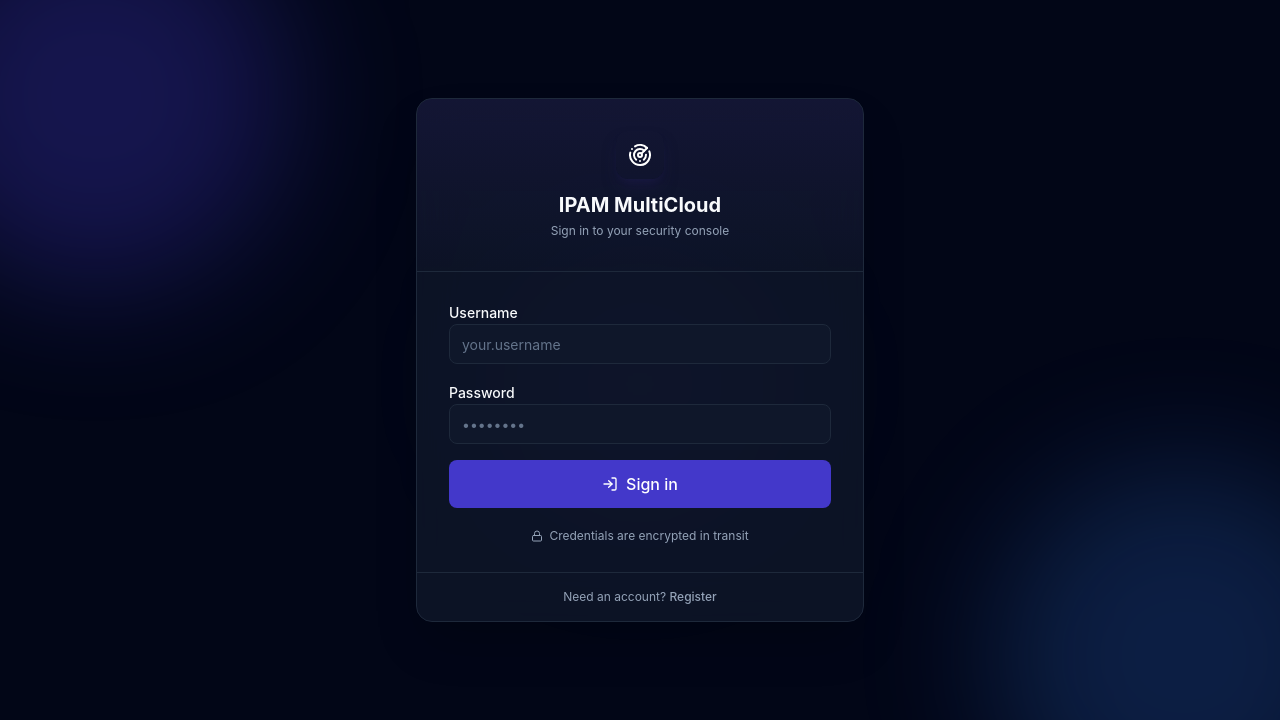
Test: Login validation › shows errors for both fields when submitting an empty form
Click the button "Sign in" at (640, 484), box [449, 460, 831, 508]
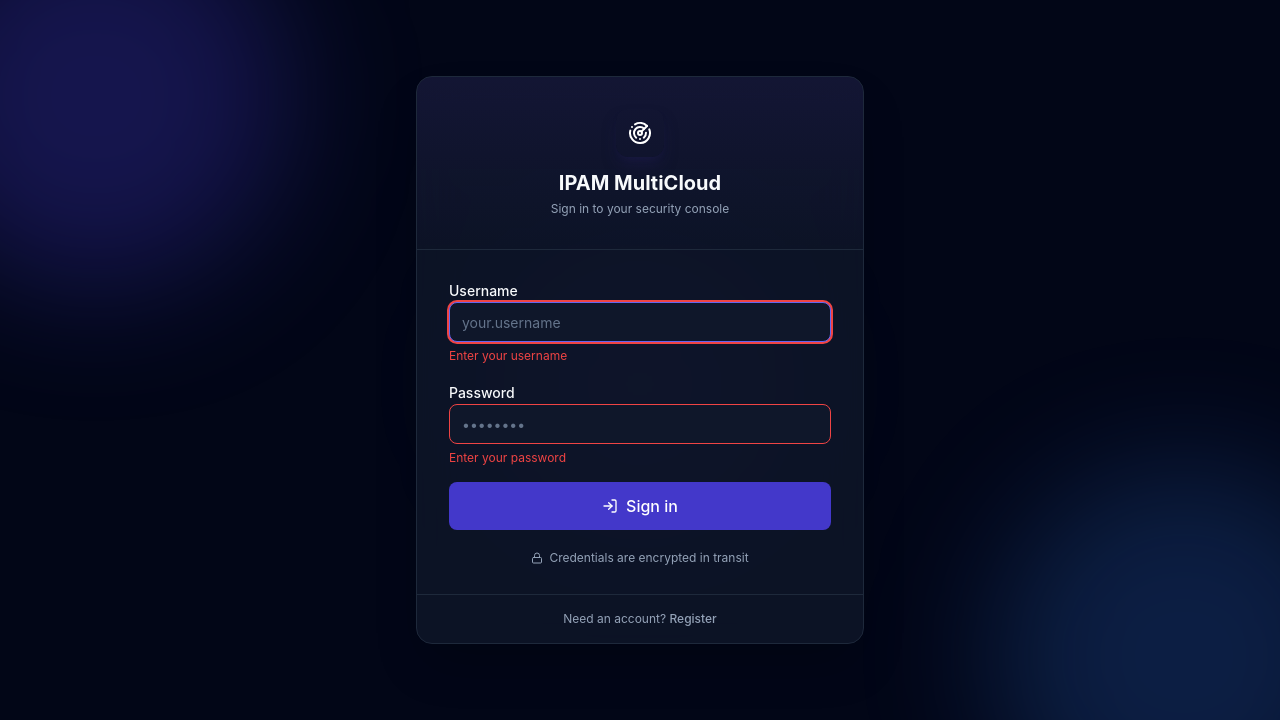
Result: the text "Enter your username" is shown at [449, 348, 567, 363]
Result: the text "Enter your password" is shown at [449, 450, 566, 465]
